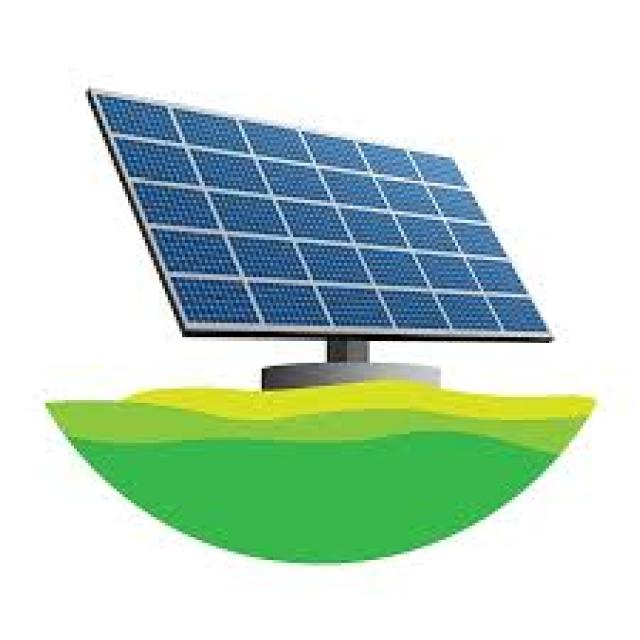Solar: (77, 86, 557, 377)
